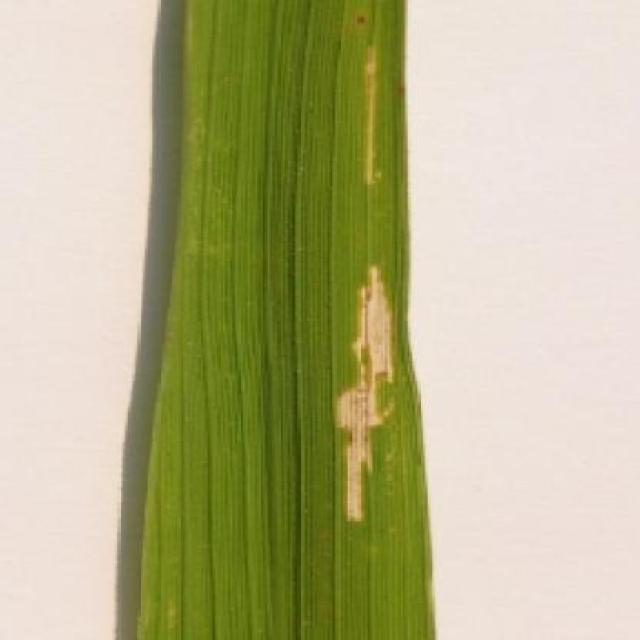Brown_Spot: (138, 0, 438, 640)
